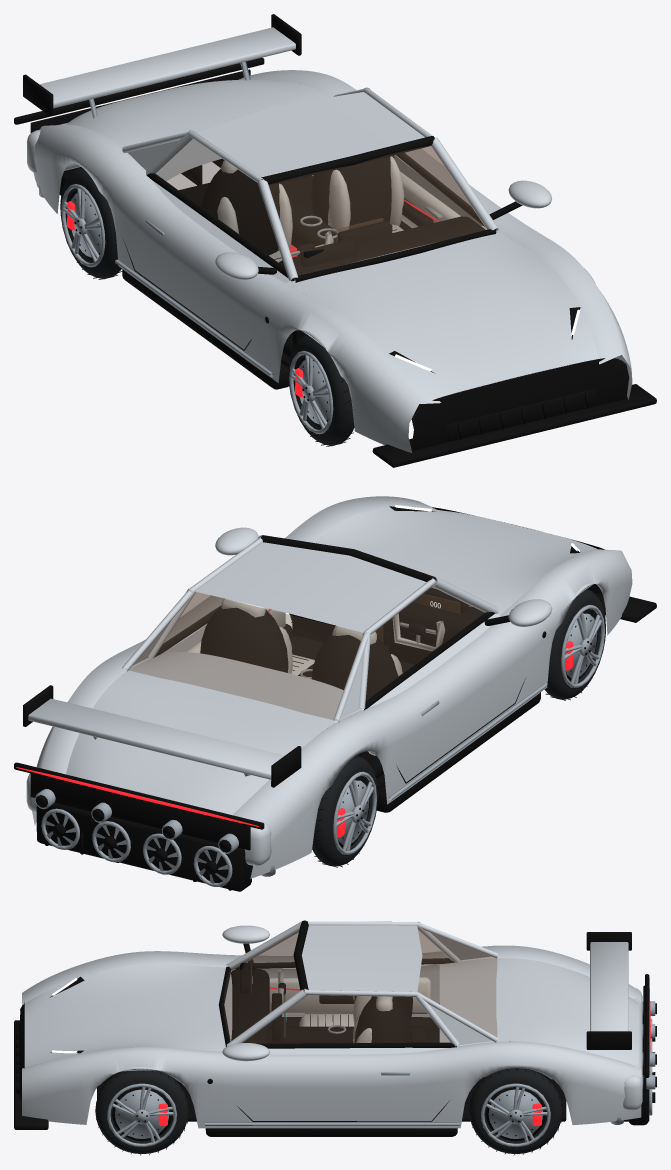
File: DR_Asterion_LOD1.glb
3 renders of one model, top to bottom at view 1: azimuth 30°, elevation 25°; view 2: azimuth 150°, elevation 25°; view 3: azimuth 270°, elevation 25°, orthographic. The views are drawn at different scales.
Visible parts, largest first — view 1: DR_Asterion_Roadster__DR_PearlAlloy, DR_Asterion_Roadster__DR_CarbonComposite, DR_Asterion_Roadster__DR_CopperSmokedGlass, AeroWing__DR_PearlAlloy, DR_Asterion_Roadster__DR_IvoryMicrofiber, Wheel_FL__DR_PerformanceRubber, Wheel_RL__DR_BrushedTitanium, Wheel_FL__DR_BrushedTitanium, Wheel_RL__DR_PerformanceRubber, DR_Asterion_Roadster__DR_BrushedTitanium, AeroWing__DR_CarbonComposite; view 2: DR_Asterion_Roadster__DR_PearlAlloy, DR_Asterion_Roadster__DR_CarbonComposite, DR_Asterion_Roadster__DR_CopperSmokedGlass, AeroWing__DR_PearlAlloy, DR_Asterion_Roadster__DR_BrushedTitanium, Wheel_RL__DR_PerformanceRubber, Wheel_RL__DR_BrushedTitanium, Wheel_FL__DR_BrushedTitanium, Wheel_FL__DR_PerformanceRubber, DR_Asterion_Roadster__DR_IvoryMicrofiber, AeroWing__DR_CarbonComposite, DR_Asterion_Roadster__DR_RedLED (+1 smaller); view 3: DR_Asterion_Roadster__DR_PearlAlloy, DR_Asterion_Roadster__DR_CopperSmokedGlass, DR_Asterion_Roadster__DR_CarbonComposite, AeroWing__DR_PearlAlloy, Wheel_RR__DR_PerformanceRubber, Wheel_FR__DR_PerformanceRubber, DR_Asterion_Roadster__DR_IvoryMicrofiber, Wheel_FR__DR_BrushedTitanium, Wheel_RR__DR_BrushedTitanium, DR_Asterion_Roadster__DR_BrushedTitanium, AeroWing__DR_CarbonComposite, Wheel_RR__DR_CarbonComposite (+1 smaller).
Part boxes in pixels (<box>): DR_Asterion_Roadster__DR_PearlAlloy: <box>27,70,632,452</box>; DR_Asterion_Roadster__DR_CarbonComposite: <box>14,57,656,467</box>; DR_Asterion_Roadster__DR_CopperSmokedGlass: <box>154,138,487,279</box>; AeroWing__DR_PearlAlloy: <box>39,27,295,108</box>; DR_Asterion_Roadster__DR_IvoryMicrofiber: <box>217,156,460,262</box>; Wheel_FL__DR_PerformanceRubber: <box>288,335,354,445</box>; Wheel_RL__DR_BrushedTitanium: <box>61,184,105,267</box>; Wheel_FL__DR_BrushedTitanium: <box>289,350,333,434</box>; Wheel_RL__DR_PerformanceRubber: <box>60,167,121,278</box>; DR_Asterion_Roadster__DR_BrushedTitanium: <box>39,185,442,376</box>; AeroWing__DR_CarbonComposite: <box>23,14,301,116</box>; DR_Asterion_Roadster__DR_PearlAlloy: <box>26,496,632,878</box>; DR_Asterion_Roadster__DR_CarbonComposite: <box>14,506,656,891</box>; DR_Asterion_Roadster__DR_CopperSmokedGlass: <box>125,583,485,720</box>; AeroWing__DR_PearlAlloy: <box>28,698,284,779</box>; DR_Asterion_Roadster__DR_BrushedTitanium: <box>35,669,547,886</box>; Wheel_RL__DR_PerformanceRubber: <box>312,756,377,866</box>; Wheel_RL__DR_BrushedTitanium: <box>333,771,376,854</box>; Wheel_FL__DR_BrushedTitanium: <box>561,605,604,687</box>; Wheel_FL__DR_PerformanceRubber: <box>545,589,605,699</box>; DR_Asterion_Roadster__DR_IvoryMicrofiber: <box>185,598,402,755</box>; AeroWing__DR_CarbonComposite: <box>23,685,301,787</box>; DR_Asterion_Roadster__DR_RedLED: <box>16,609,271,826</box>; DR_Asterion_Roadster__DR_PearlAlloy: <box>22,920,642,1128</box>; DR_Asterion_Roadster__DR_CopperSmokedGlass: <box>224,926,496,1043</box>; DR_Asterion_Roadster__DR_CarbonComposite: <box>14,920,656,1136</box>; AeroWing__DR_PearlAlloy: <box>590,942,628,1031</box>; Wheel_RR__DR_PerformanceRubber: <box>469,1068,562,1153</box>; Wheel_FR__DR_PerformanceRubber: <box>95,1070,188,1153</box>; DR_Asterion_Roadster__DR_IvoryMicrofiber: <box>269,977,430,1042</box>; Wheel_FR__DR_BrushedTitanium: <box>107,1083,176,1147</box>; Wheel_RR__DR_BrushedTitanium: <box>481,1083,550,1147</box>; DR_Asterion_Roadster__DR_BrushedTitanium: <box>205,1001,655,1125</box>; AeroWing__DR_CarbonComposite: <box>586,932,631,1049</box>; Wheel_RR__DR_CarbonComposite: <box>469,1068,562,1155</box>.
Bounding box in the file's own units: 2.31 × 1.26 × 4.82.
Materials: 9 (1 with a texture image).
